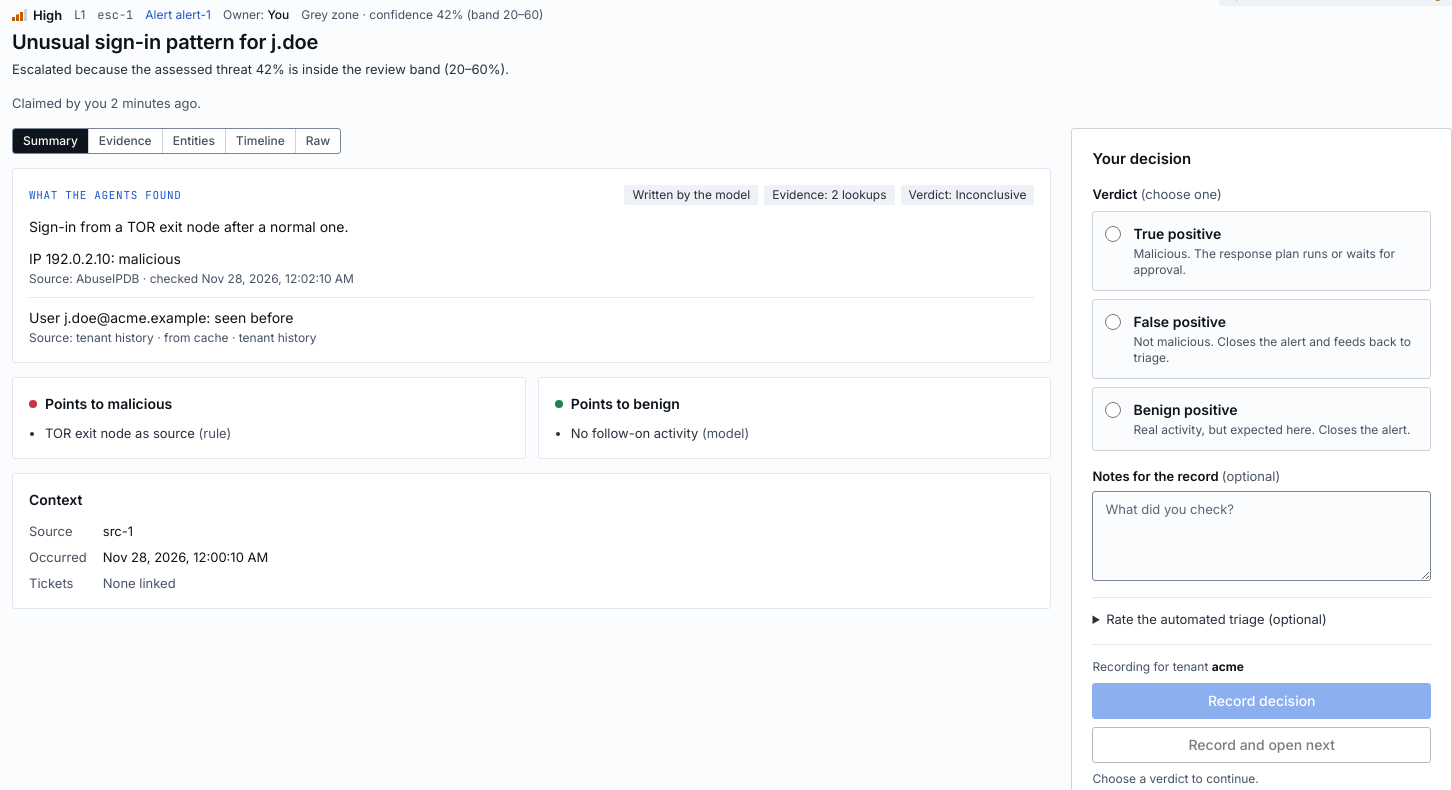
Test: decision form › offers the suppression suggestion only for false and benign positives, with optional notes and feedback
Expected: the heading "Unusual sign-in pattern for j.doe" is shown, [12,30,318,54]
Click the radio button labelled "Benign positive": (1114, 410) [1106,402,1122,418]
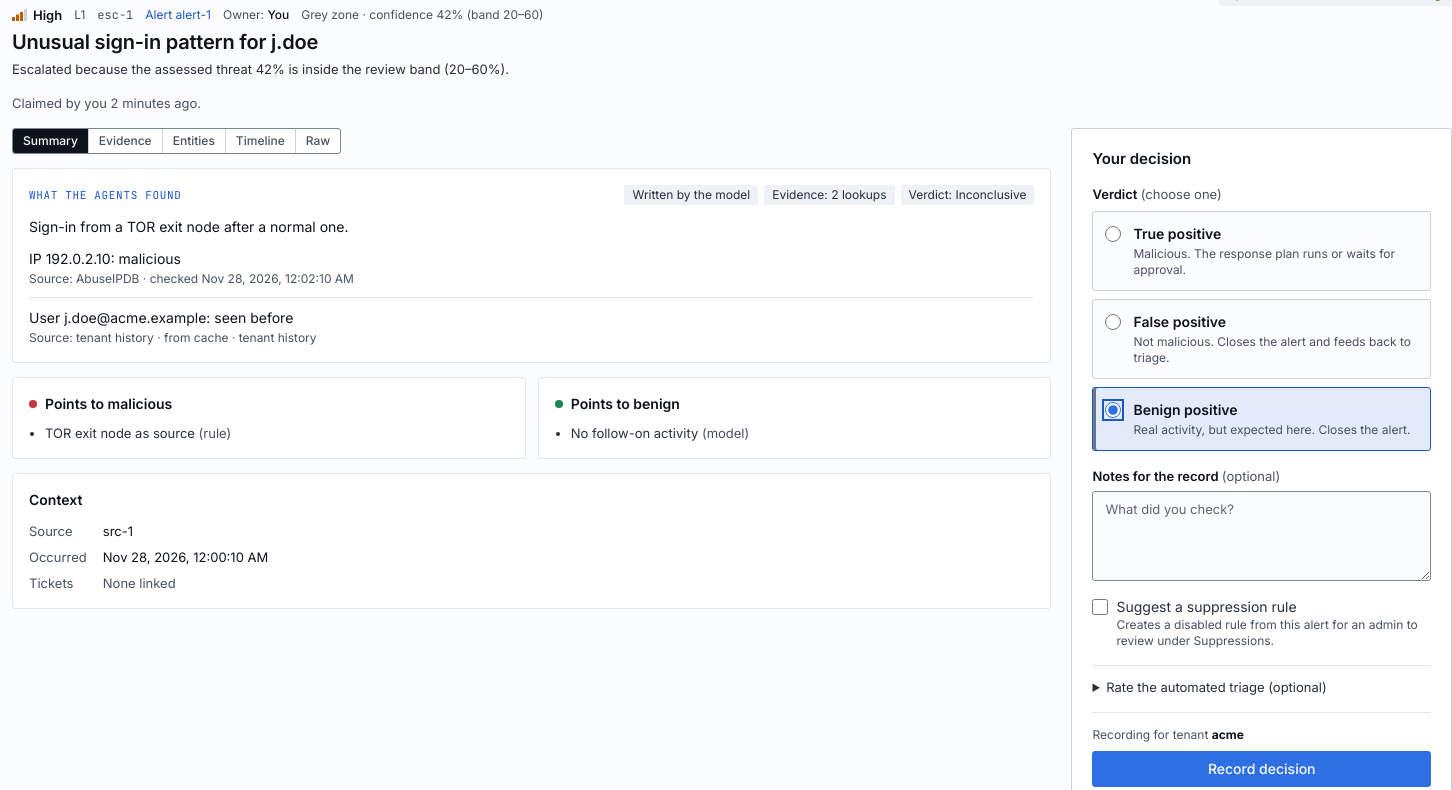
Expected: the checkbox labelled "Suggest a suppression rule" is shown, [1092,599,1108,615]
Click the radio button labelled "False positive": (1114, 322) [1106,314,1122,330]
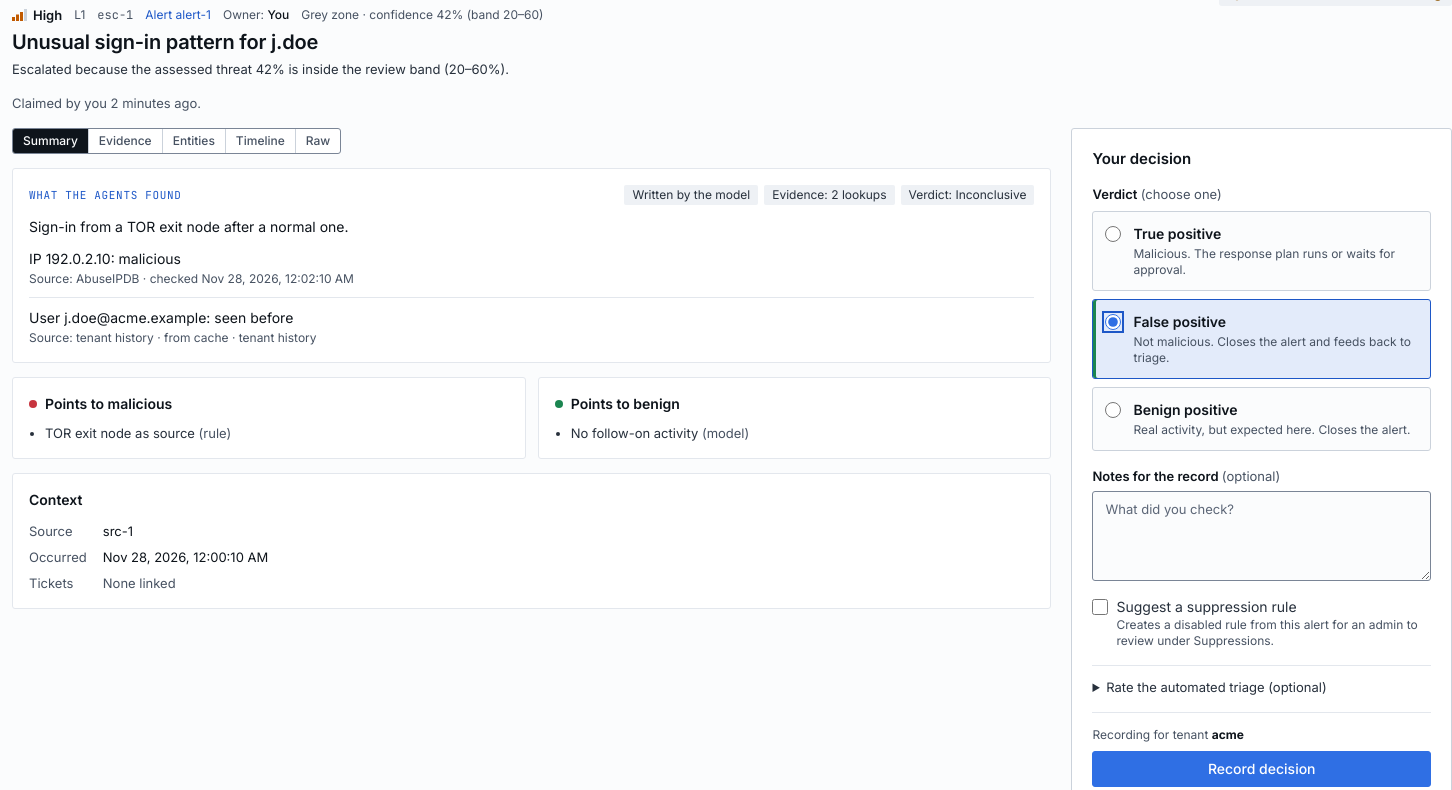
Expected: the text "(optional)" is shown, [1222,468,1280,484]
Click the checkbox labelled "Suggest a suppression rule": (1100, 607) [1092,599,1108,615]
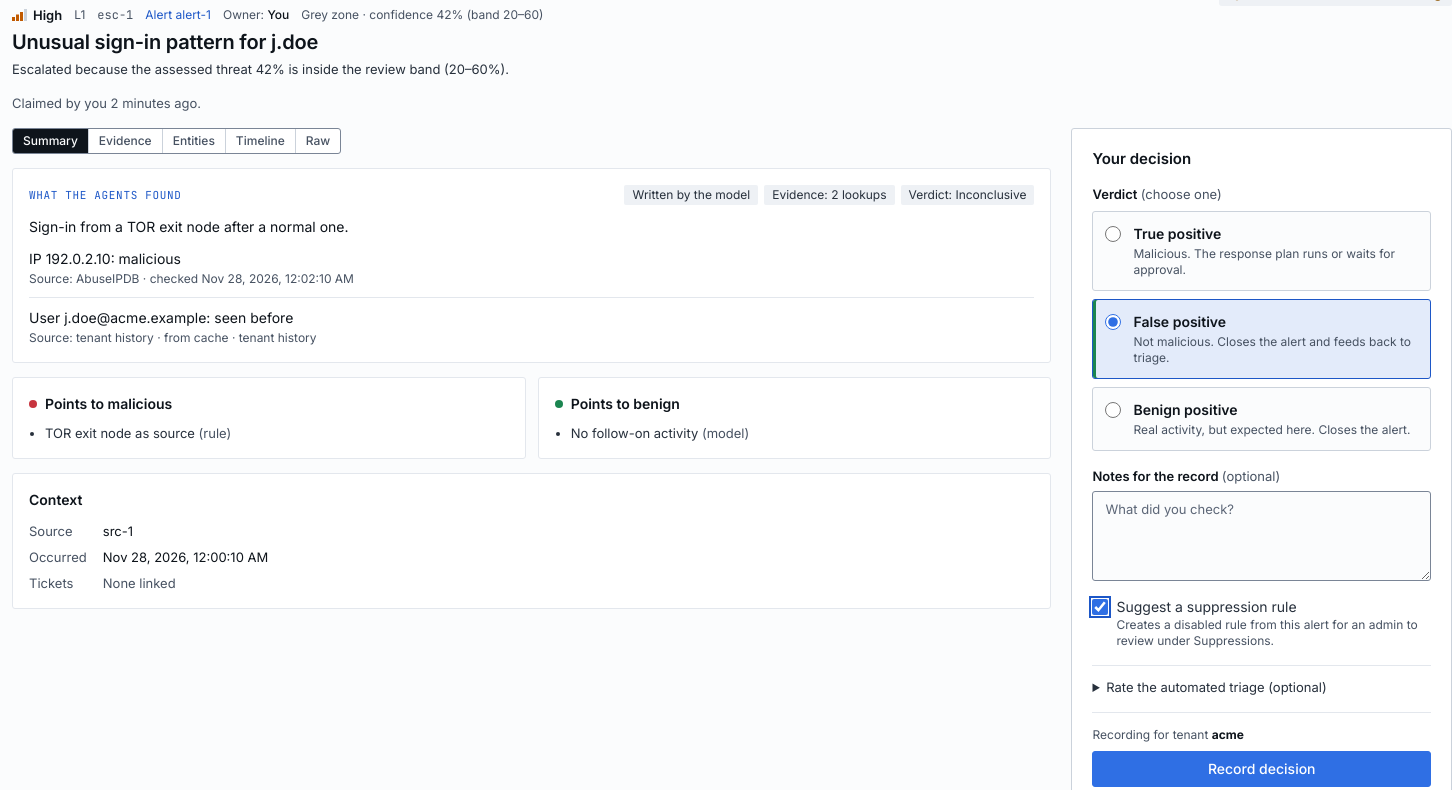
Click the heading "Rate the automated triage (optional)": (1216, 687) [1106,679,1327,695]
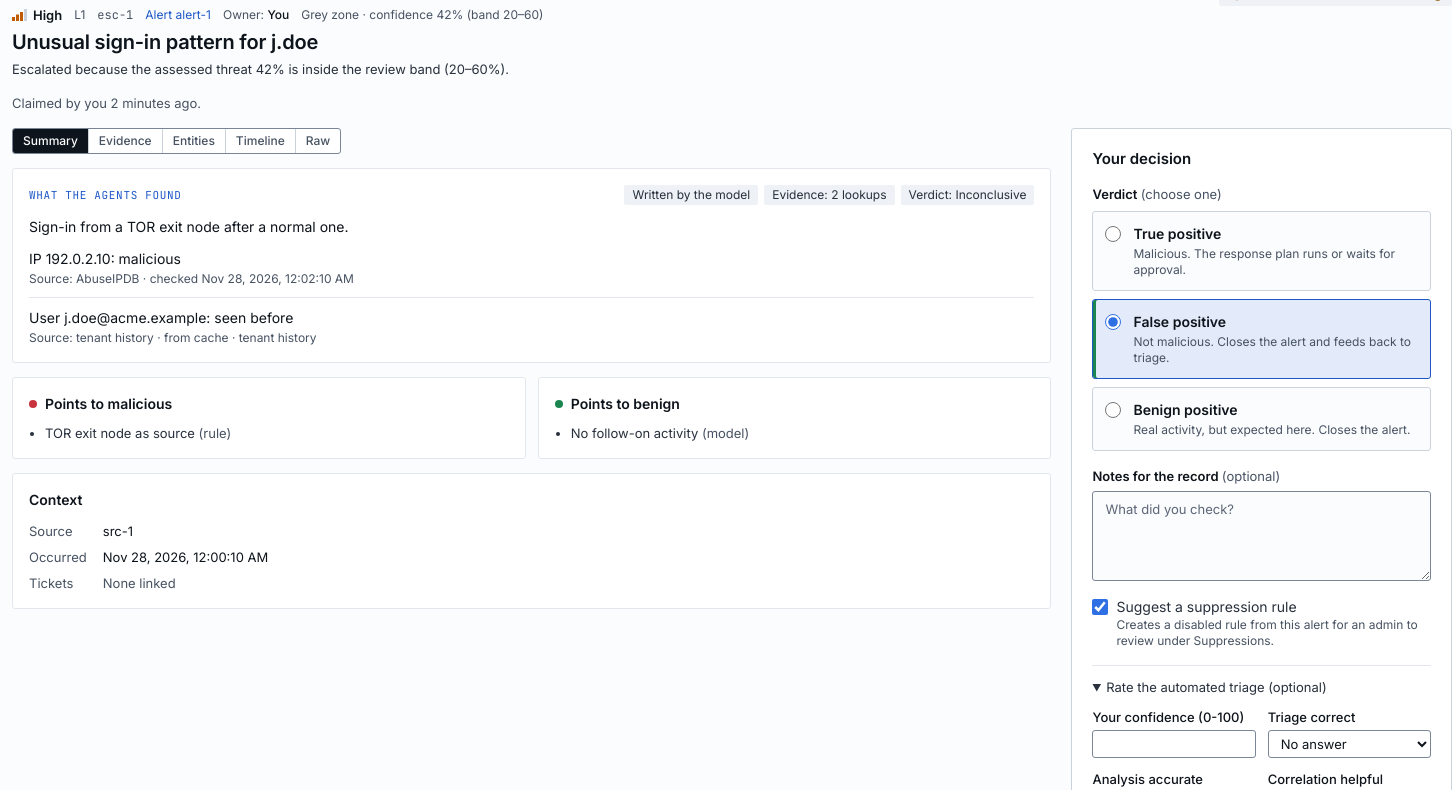
Select "No" in the dropdown labelled "Triage correct": (1349, 744) [1268,730,1431,758]
In the number field labelled "Your confidence (0-100)": (1174, 744) [1092,730,1256,758], type "140"
(page scrolled)
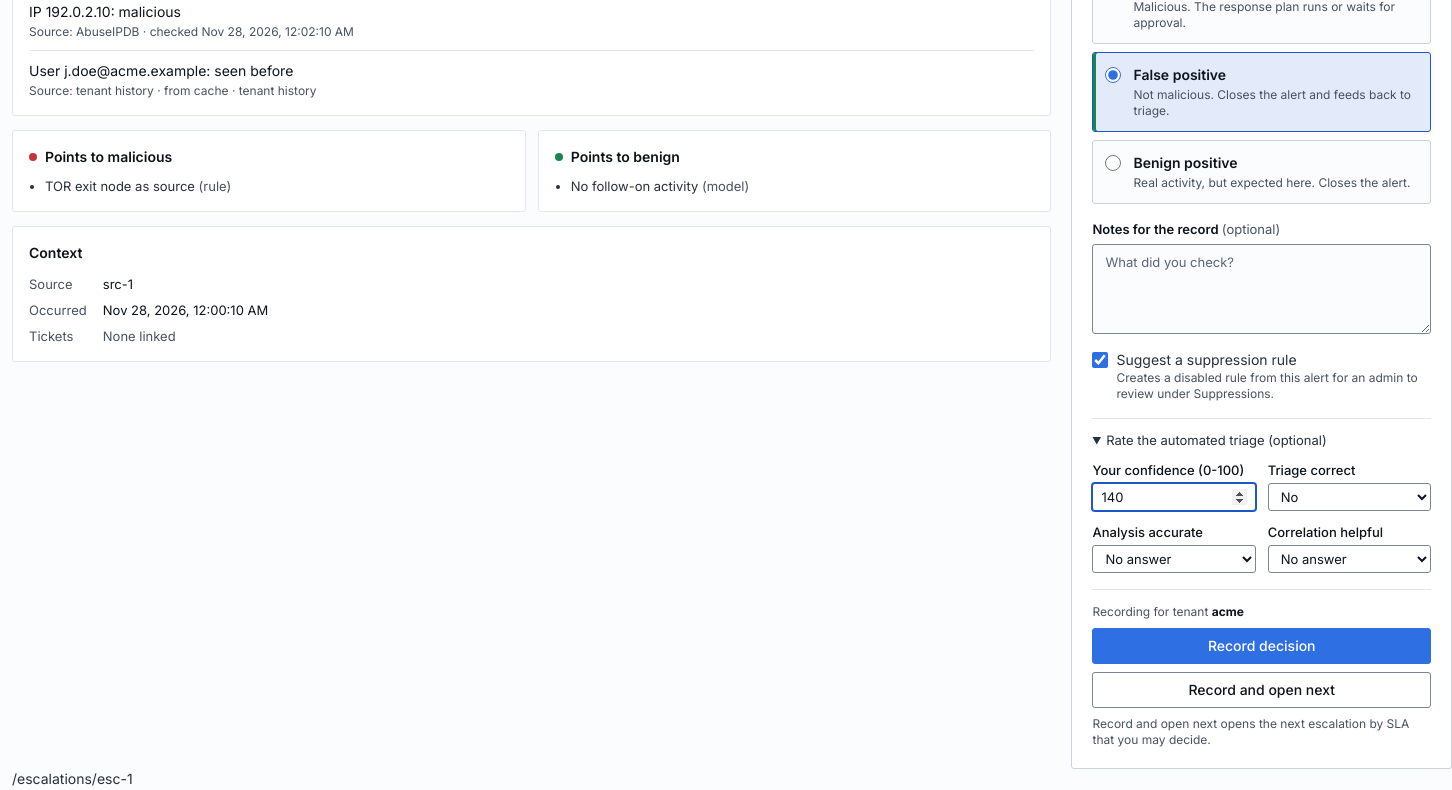
Click the button "Record decision": (1262, 646) [1092,628,1431,664]
(page scrolled)
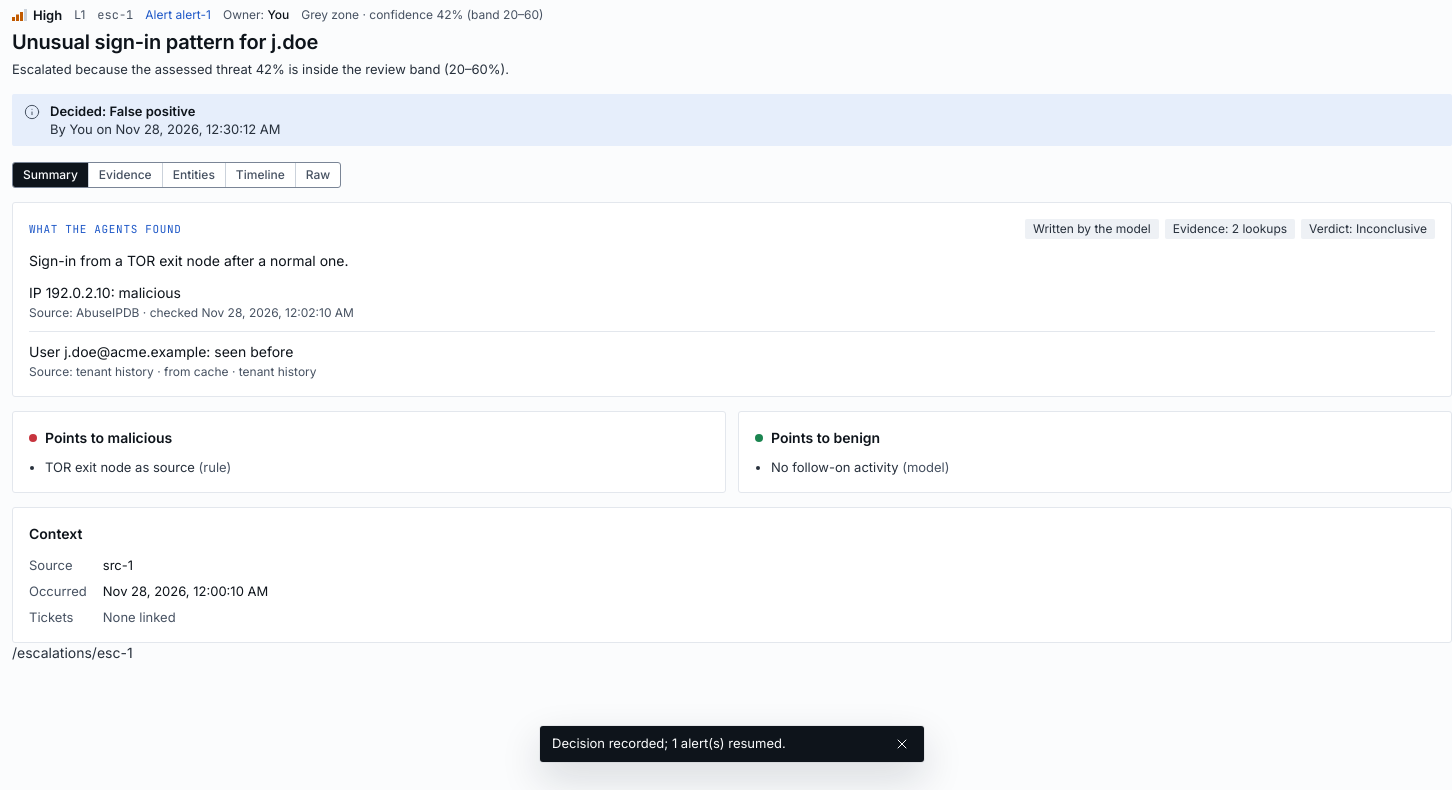
Expected: the text "Decision recorded; 1 alert(s) resumed." is shown, [552,735,786,751]
